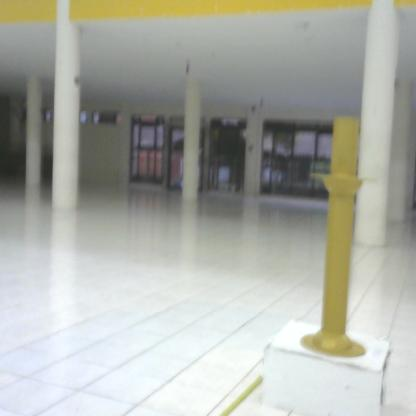pole: (303, 112, 384, 368)
